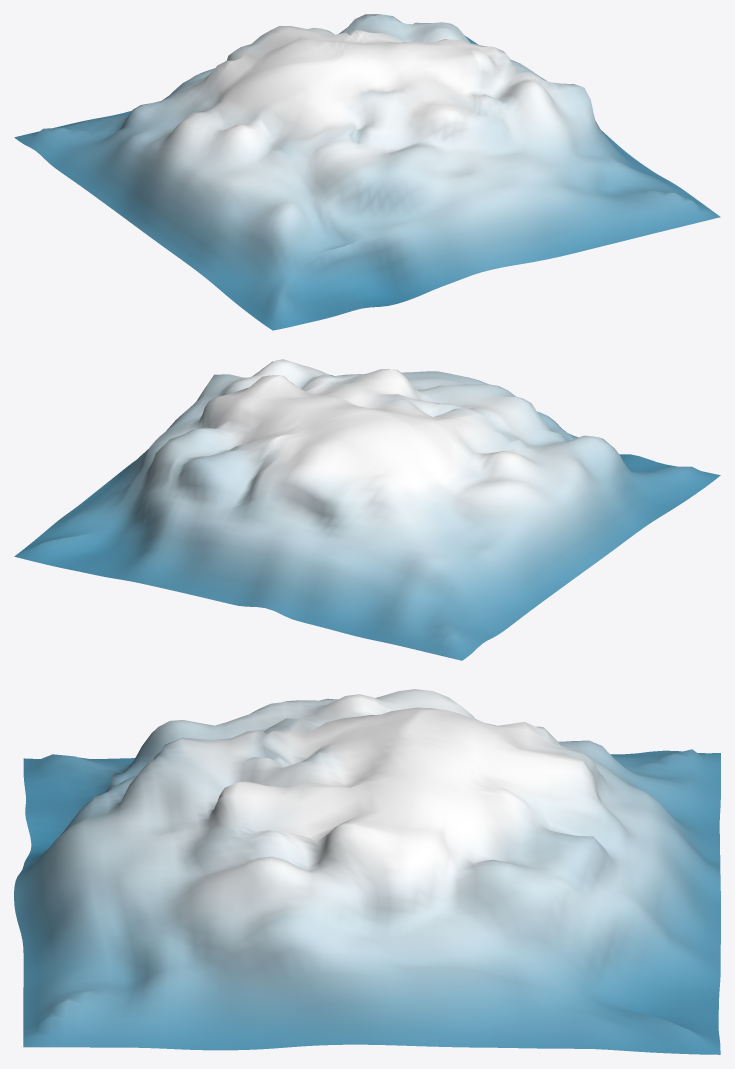
Rendered from ice 2.fbx.
3 views of the same model, one above another, from view 1: azimuth 30°, elevation 25°; view 2: azimuth 150°, elevation 25°; view 3: azimuth 270°, elevation 25° (orthographic). The views are drawn at different scales.
Visible parts, largest first — view 1: pPlane5; view 2: pPlane5; view 3: pPlane5.
Boxes of the visible parts, left/top/right/bottom form: pPlane5: left=14, top=14, right=720, bottom=330; pPlane5: left=14, top=359, right=720, bottom=660; pPlane5: left=14, top=689, right=720, bottom=1054.
Bounding box in the file's own units: 14.78 × 3.94 × 14.88.
